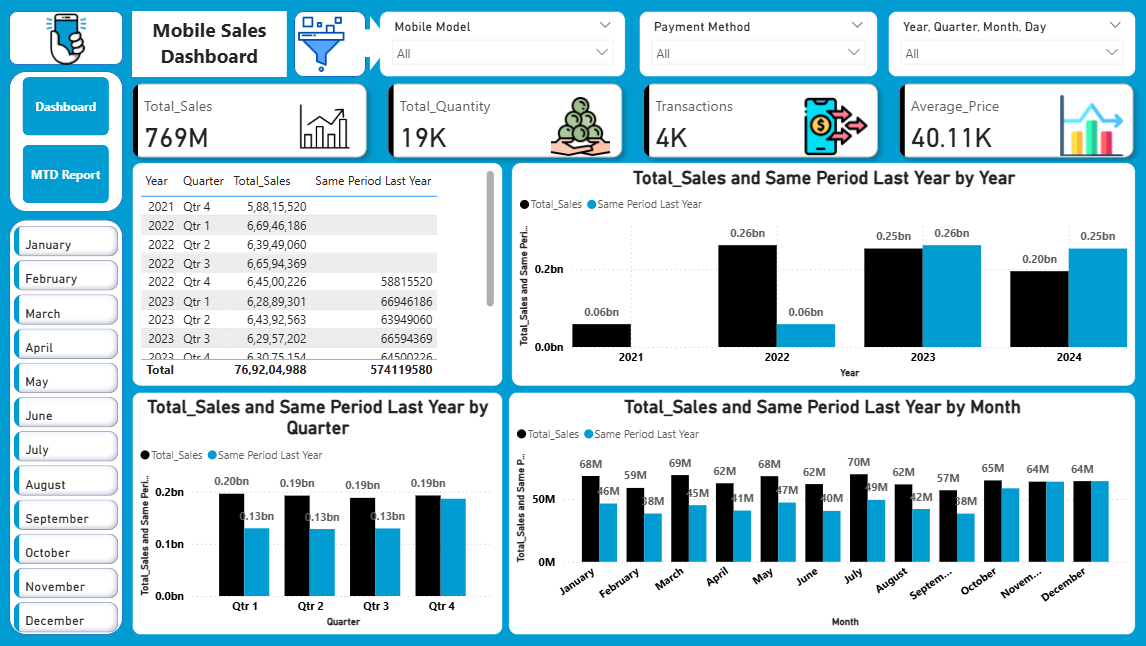

The page's visual inventory and layout, read from the dashboard file:
{"tool":"powerbi","page":{"name":"Same Period Last Year","canvas":[1280,720],"ordinal":2},"visuals":[{"type":"shape","box":[13.3,13.3,126.7,60],"z":0},{"type":"image","box":[21.7,1.7,110,85],"z":1000},{"type":"shape","box":[13.3,80,126.7,156.7],"z":2000},{"type":"cardVisual","fields":{"Data":["Mobile_Sales_Data.Total_Sales","Mobile_Sales_Data.Total_Quantity","Mobile_Sales_Data.Transactions","Mobile_Sales_Data.Average_Price"]},"box":[133.3,76.7,1146.7,116.7],"z":3000},{"type":"slicer","fields":{"Values":["Mobile_Sales_Data.Mobile Model"]},"box":[425,13.3,273.3,73.3],"z":4000},{"type":"slicer","fields":{"Values":["Mobile_Sales_Data.Payment Method"]},"box":[713.3,13.3,265,73.3],"z":5000},{"type":"slicer","fields":{"Values":["Custom_Calendar.Date.Variation.Date Hierarchy.Year","Custom_Calendar.Date.Variation.Date Hierarchy.Quarter","Custom_Calendar.Date.Variation.Date Hierarchy.Month","Custom_Calendar.Date.Variation.Date Hierarchy.Day"]},"box":[990,13.3,275,73.3],"z":6000},{"type":"shape","box":[330,13.3,80,73.3],"z":7000},{"type":"image","box":[310,13.3,100,73.3],"z":8000},{"type":"shape","box":[390,18.3,48.3,61.7],"z":9000},{"type":"shape","box":[150,13.3,171.7,73.3],"z":10000},{"type":"textbox","box":[150,13.3,171.7,73.3],"z":11000},{"type":"shape","box":[13.3,245,126.7,461.7],"z":12000},{"type":"advancedSlicerVisual","fields":{"Values":["Custom_Calendar.Date.Variation.Date Hierarchy.Month"]},"box":[13.3,246.7,126.7,473.3],"z":13000},{"type":"tableEx","fields":{"Values":["Custom_Calendar.Date.Variation.Date Hierarchy.Year","Custom_Calendar.Date.Variation.Date Hierarchy.Quarter","Mobile_Sales_Data.Total_Sales","Mobile_Sales_Data.Same Peroid Last Year"]},"box":[150,181.7,411.7,248.3],"z":14000},{"type":"clusteredColumnChart","title":"Total_Sales and Same Period Last Year by Year","fields":{"Category":["Custom_Calendar.Date.Variation.Date Hierarchy.Year","Custom_Calendar.Date.Variation.Date Hierarchy.Quarter"],"Y":["Mobile_Sales_Data.Total_Sales","Mobile_Sales_Data.Same Peroid Last Year"]},"box":[571.7,181.7,693.3,248.3],"z":15000},{"type":"clusteredColumnChart","title":"Total_Sales and Same Period Last Year by Quarter","fields":{"Category":["Custom_Calendar.Date.Variation.Date Hierarchy.Quarter"],"Y":["Mobile_Sales_Data.Total_Sales","Mobile_Sales_Data.Same Peroid Last Year"]},"box":[150,436.7,411.7,270],"z":16000},{"type":"clusteredColumnChart","title":"Total_Sales and Same Period Last Year by Month","fields":{"Y":["Mobile_Sales_Data.Total_Sales","Mobile_Sales_Data.Same Peroid Last Year"],"Category":["Custom_Calendar.Date.Variation.Date Hierarchy.Year","Custom_Calendar.Date.Variation.Date Hierarchy.Quarter","Custom_Calendar.Date.Variation.Date Hierarchy.Month","Custom_Calendar.Date.Variation.Date Hierarchy.Day"]},"box":[568.3,436.7,696.7,270],"z":17000},{"type":"pageNavigator","box":[28.3,86.7,96.7,141.7],"z":17001}]}

Visuals, with their boxes in screenshot pixels (x1, y1, x2, y2), scaled from the page's 1280x720 canvas onto the 1146x646 screenshot:
shape: bbox=[12, 12, 125, 66]
image: bbox=[19, 2, 118, 78]
shape: bbox=[12, 72, 125, 212]
cardVisual - Mobile_Sales_Data.Total_Sales x Mobile_Sales_Data.Total_Quantity: bbox=[119, 69, 1145, 174]
slicer - Mobile_Sales_Data.Mobile Model: bbox=[381, 12, 625, 78]
slicer - Mobile_Sales_Data.Payment Method: bbox=[639, 12, 876, 78]
slicer - Custom_Calendar.Date.Variation.Date Hierarchy.Year x Custom_Calendar.Date.Variation.Date Hierarchy.Quarter: bbox=[886, 12, 1133, 78]
shape: bbox=[295, 12, 367, 78]
image: bbox=[278, 12, 367, 78]
shape: bbox=[349, 16, 392, 72]
shape: bbox=[134, 12, 288, 78]
textbox: bbox=[134, 12, 288, 78]
shape: bbox=[12, 220, 125, 634]
advancedSlicerVisual - Custom_Calendar.Date.Variation.Date Hierarchy.Month: bbox=[12, 221, 125, 645]
tableEx - Custom_Calendar.Date.Variation.Date Hierarchy.Year x Custom_Calendar.Date.Variation.Date Hierarchy.Quarter: bbox=[134, 163, 503, 386]
"Total_Sales and Same Period Last Year by Year" clusteredColumnChart: bbox=[512, 163, 1133, 386]
"Total_Sales and Same Period Last Year by Quarter" clusteredColumnChart: bbox=[134, 392, 503, 634]
"Total_Sales and Same Period Last Year by Month" clusteredColumnChart: bbox=[509, 392, 1133, 634]
pageNavigator: bbox=[25, 78, 112, 205]
